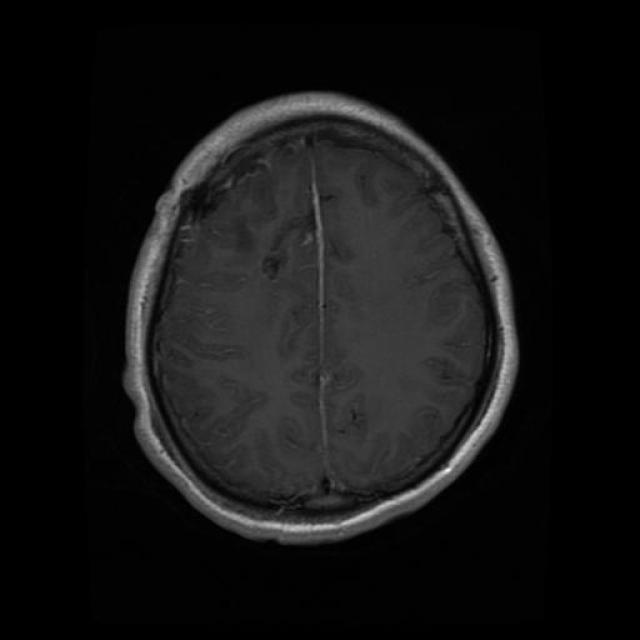glioma: (248, 210, 379, 373)
